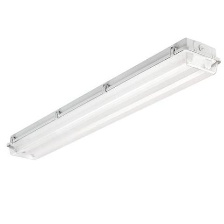light_bulb: (9, 53, 196, 155), (26, 60, 213, 158)
